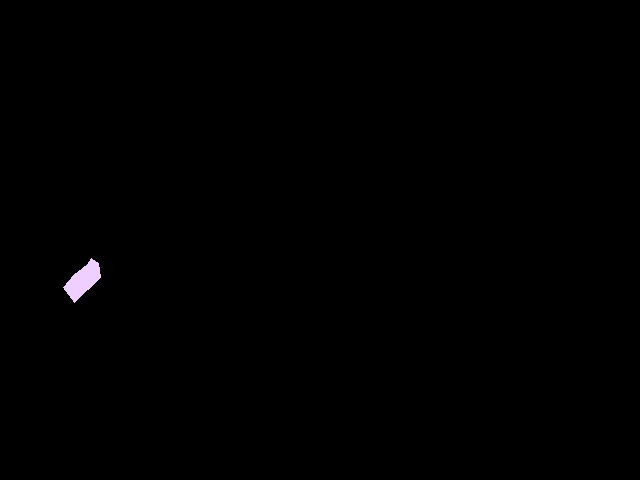Train: (63, 258, 101, 303)
